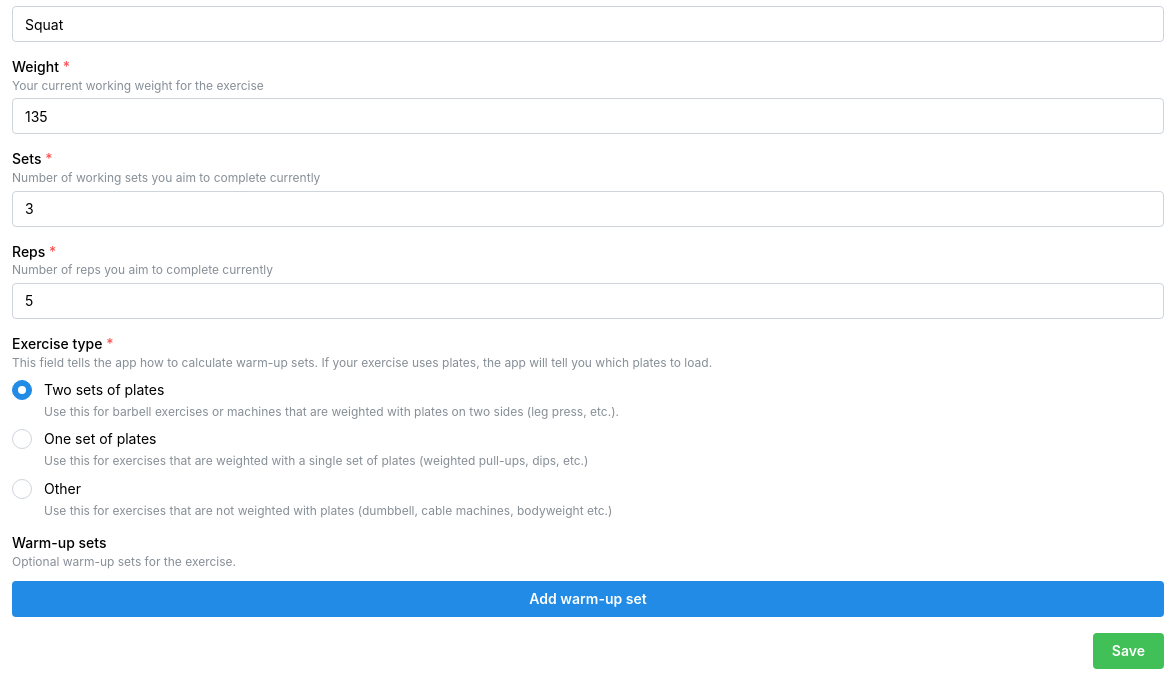
Test: ExerciseForm › validation › disables the Save button when Name is cleared
This screenshot has width=1176, height=682.
Step 1. Clear the field labelled "Name" → (588, 24), box [12,6,1164,42]
(page scrolled)
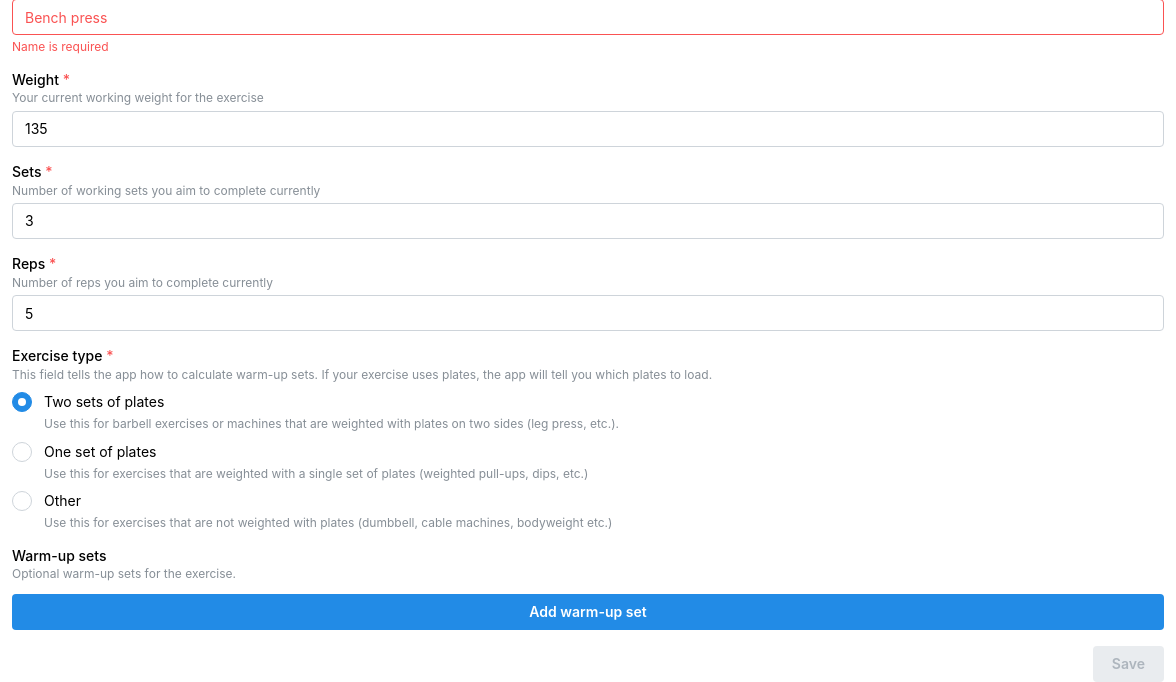
Result: the button "Save" is disabled at [1093,646,1164,681]
